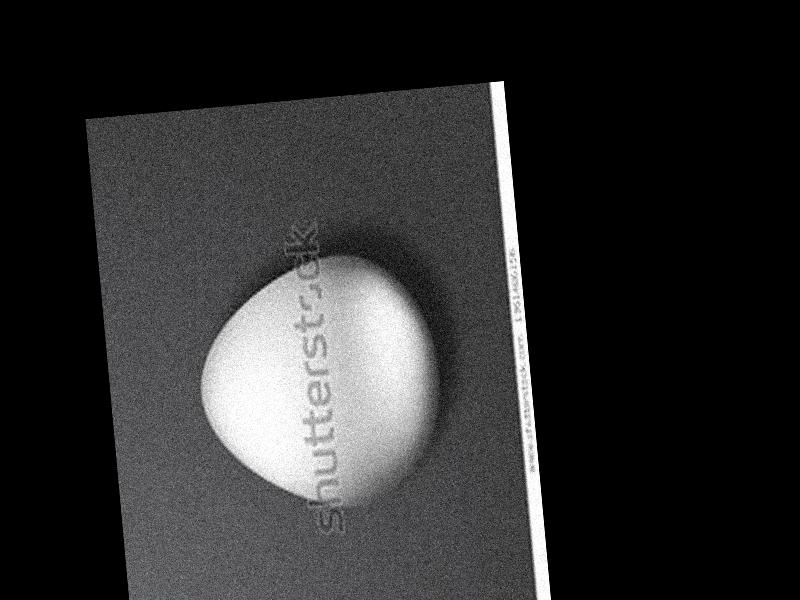Eggs: (188, 248, 447, 519)
